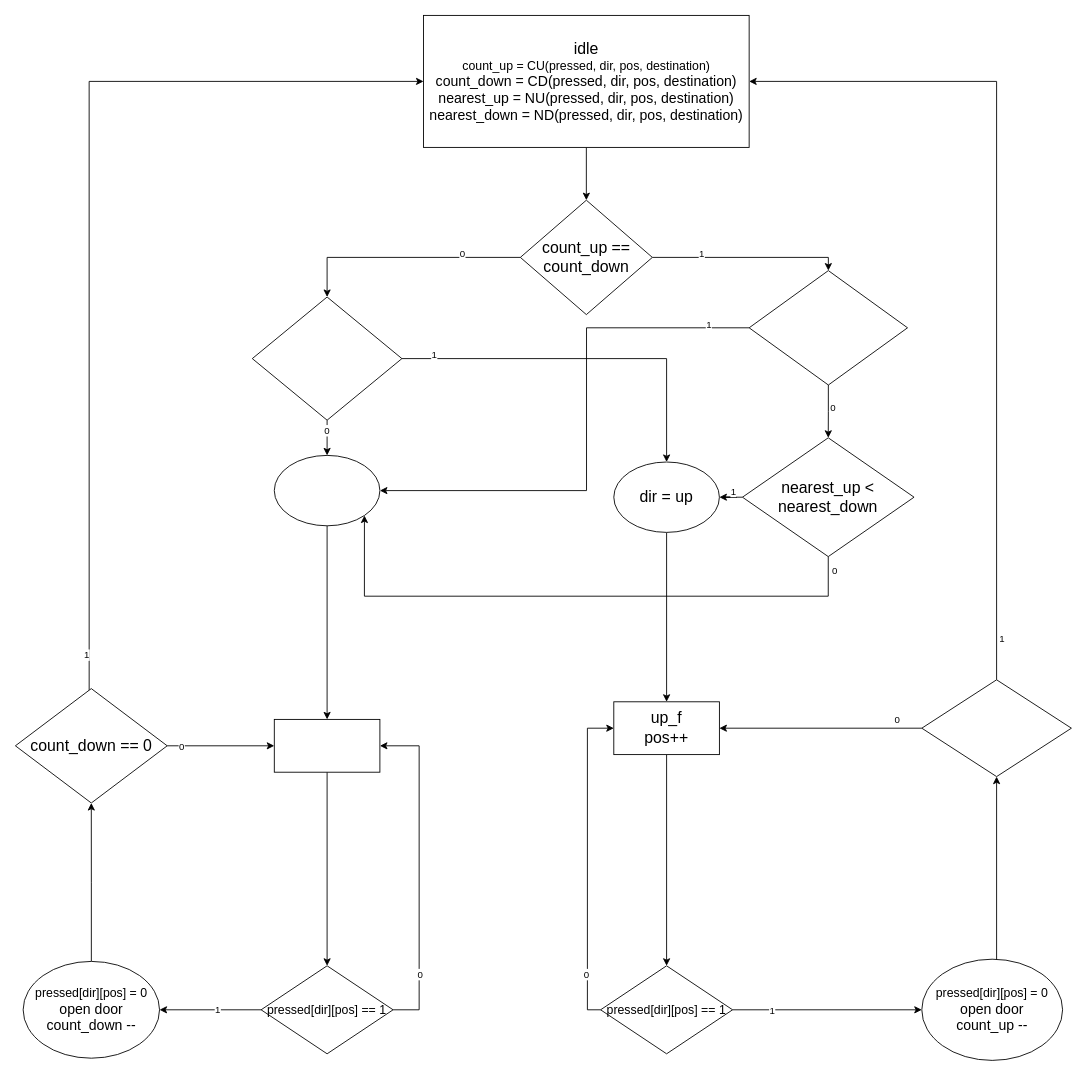
The diagram is 1087 pixels wide and 1081 high, and some of its shapes have lost their labels. The centre of each missing label's shape, as x and y in pixels:
count_up == 0: (x=996, y=728)
count_up > count_down: (x=326, y=358)
dir = down: (x=326, y=490)
down_f pos--: (x=326, y=745)
nearest_up == nearest_down: (x=828, y=327)
